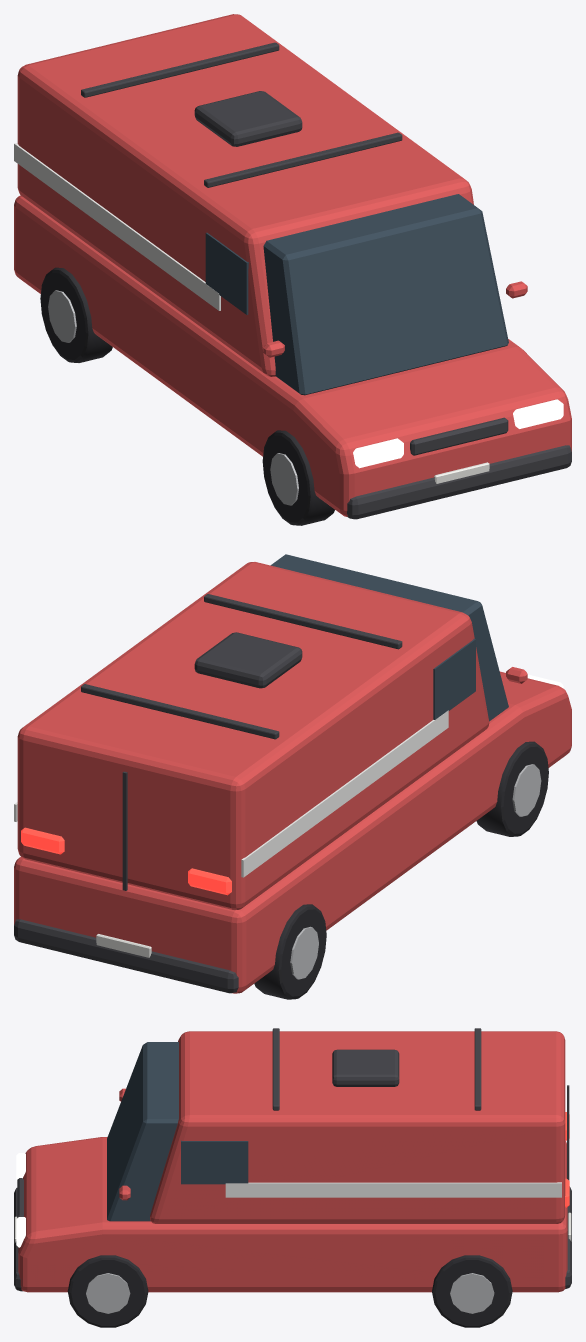
Rendered from van.glb.
3 renders of one model, top to bottom at view 1: azimuth 30°, elevation 25°; view 2: azimuth 150°, elevation 25°; view 3: azimuth 270°, elevation 25°, orthographic. The views are drawn at different scales.
Visible parts, largest first — view 1: Box, Body.005, Windscreen, BumperF.003, VanStripe-1, RoofVent, Tyre0L.003, Tyre1L.003, SideWin-1, RoofRack1, RoofRack2, Grille.003 (+4 smaller); view 2: Box, Body.005, Windscreen, BumperR.003, VanStripe-1, RoofVent, Tyre1L.003, Tyre0L.003, SideWin-1, RoofRack1, RoofRack2, Rim1L.003 (+5 smaller); view 3: Box, Body.005, Windscreen, VanStripe1, Tyre0R.003, Tyre1R.003, SideWin1, RoofVent, Rim1R.003, Rim0R.003, RoofRack1, RoofRack2 (+2 smaller).
Part boxes in pixels (bbox=[...]): Box: bbox=[17, 14, 473, 376]; Body.005: bbox=[14, 195, 571, 516]; Windscreen: bbox=[263, 194, 508, 395]; BumperF.003: bbox=[347, 445, 571, 519]; VanStripe-1: bbox=[14, 143, 220, 310]; RoofVent: bbox=[194, 91, 302, 146]; Tyre0L.003: bbox=[262, 430, 334, 525]; Tyre1L.003: bbox=[40, 267, 112, 362]; SideWin-1: bbox=[205, 232, 248, 314]; RoofRack1: bbox=[204, 132, 402, 187]; RoofRack2: bbox=[81, 42, 279, 97]; Grille.003: bbox=[410, 417, 508, 455]; Box: bbox=[17, 562, 489, 909]; Body.005: bbox=[14, 671, 571, 993]; Windscreen: bbox=[270, 554, 508, 721]; BumperR.003: bbox=[14, 919, 238, 993]; VanStripe-1: bbox=[241, 710, 448, 877]; RoofVent: bbox=[194, 632, 302, 688]; Tyre1L.003: bbox=[254, 904, 326, 999]; Tyre0L.003: bbox=[476, 741, 548, 836]; SideWin-1: bbox=[433, 639, 475, 719]; RoofRack1: bbox=[204, 594, 402, 649]; RoofRack2: bbox=[81, 684, 279, 739]; Rim1L.003: bbox=[290, 926, 318, 979]; Box: bbox=[150, 1031, 565, 1223]; Body.005: bbox=[18, 1137, 567, 1292]; Windscreen: bbox=[107, 1042, 178, 1221]; VanStripe1: bbox=[225, 1182, 561, 1197]; Tyre0R.003: bbox=[67, 1255, 148, 1327]; Tyre1R.003: bbox=[432, 1255, 512, 1327]; SideWin1: bbox=[181, 1140, 248, 1184]; RoofVent: bbox=[332, 1049, 399, 1086]; Rim1R.003: bbox=[450, 1273, 494, 1313]; Rim0R.003: bbox=[86, 1273, 130, 1313]; RoofRack1: bbox=[272, 1028, 279, 1110]; RoofRack2: bbox=[474, 1028, 481, 1110].
Bounding box in the file's own units: 2.21 × 2.15 × 4.98.
